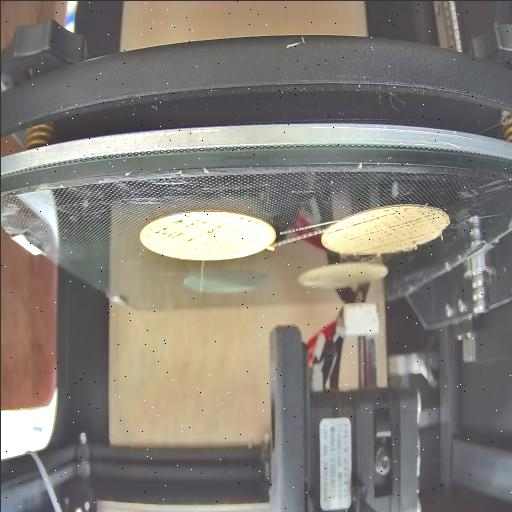under_extrusion: (325, 212, 434, 246), (142, 216, 262, 246)
